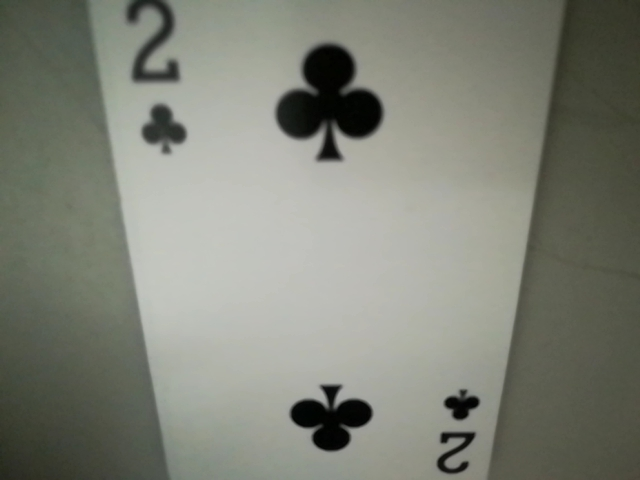mh 2: (110, 4, 201, 168), (430, 383, 488, 480)
